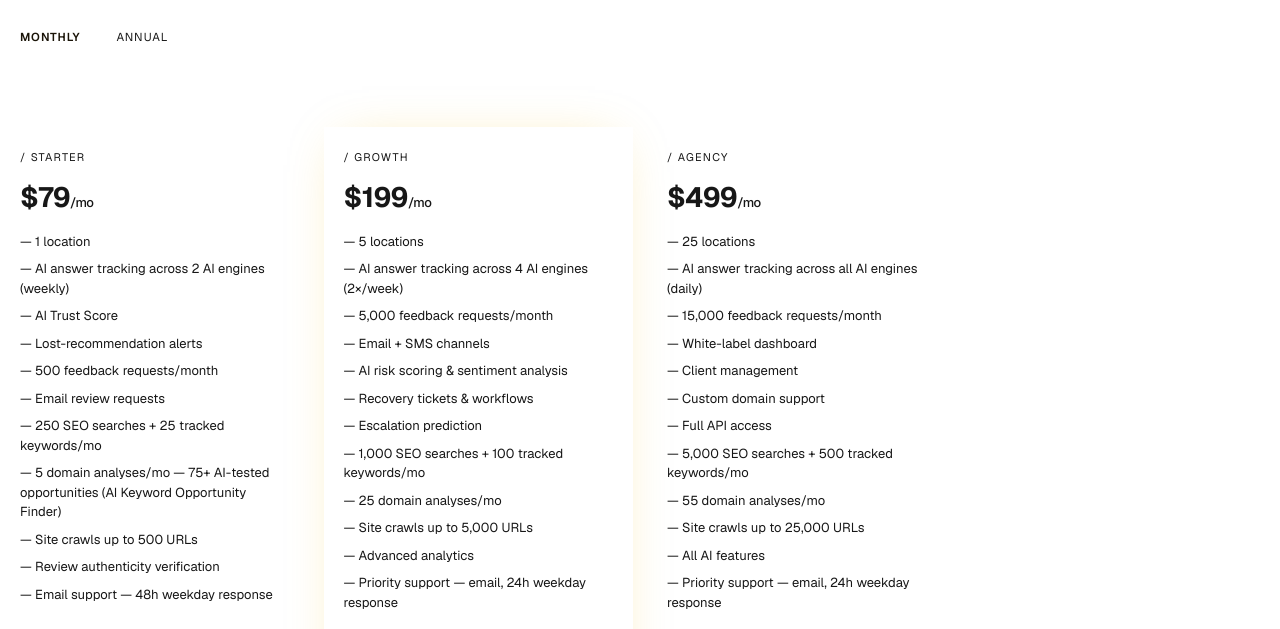
Test: the monthly / annual toggle › switches to annual prices and strikes the monthly one through
Click the button "Annual" at (142, 37), box [100,20,184,53]
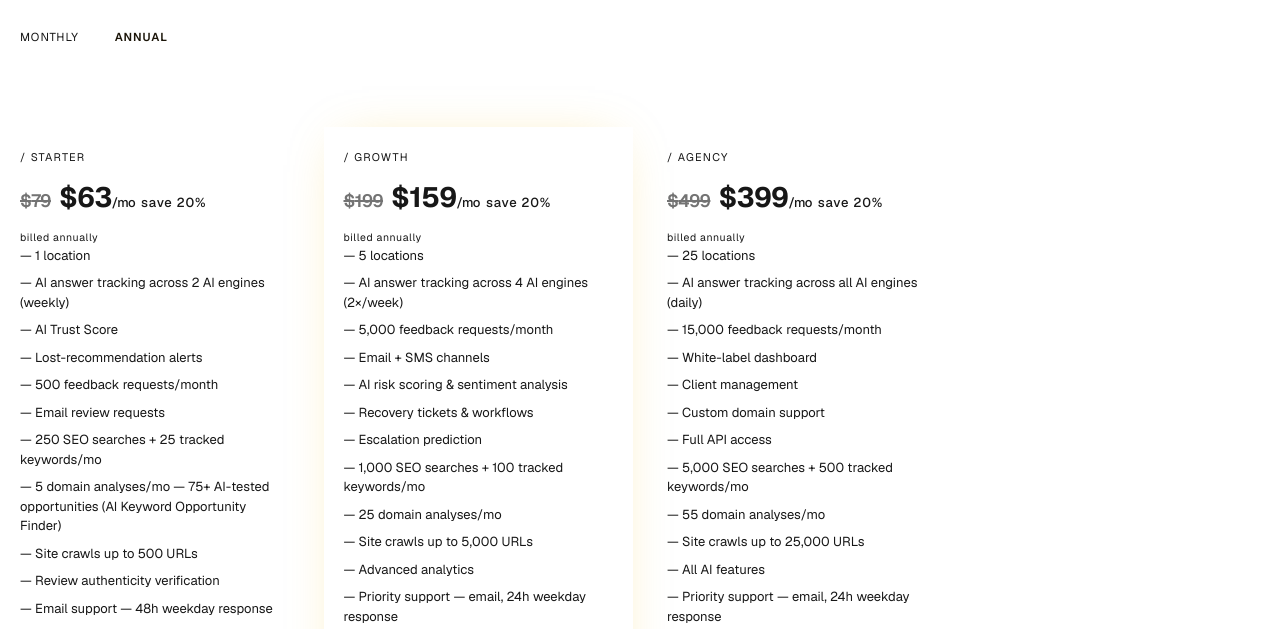
Now the text "$63" is shown, box [20,179,206,215]
Now the text "billed annually" below "63" is shown, box [20,230,98,244]
Now the text "save 20%" in the row of "63" is shown, box [141,194,206,211]
